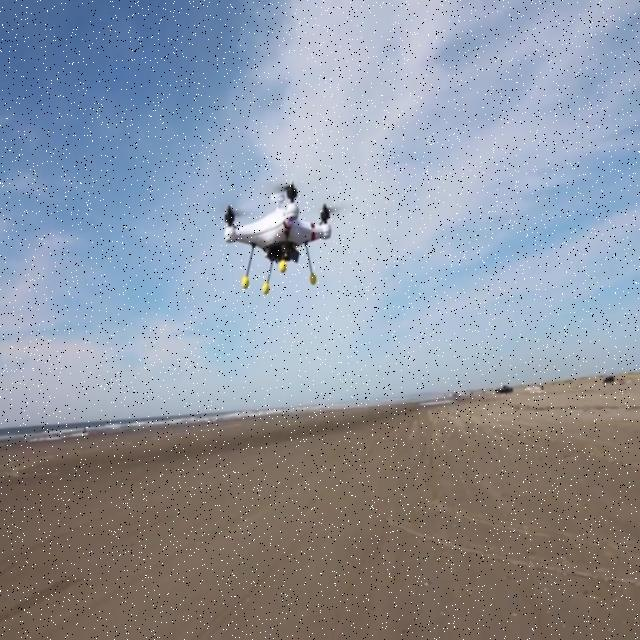UAV: (224, 181, 340, 295)
